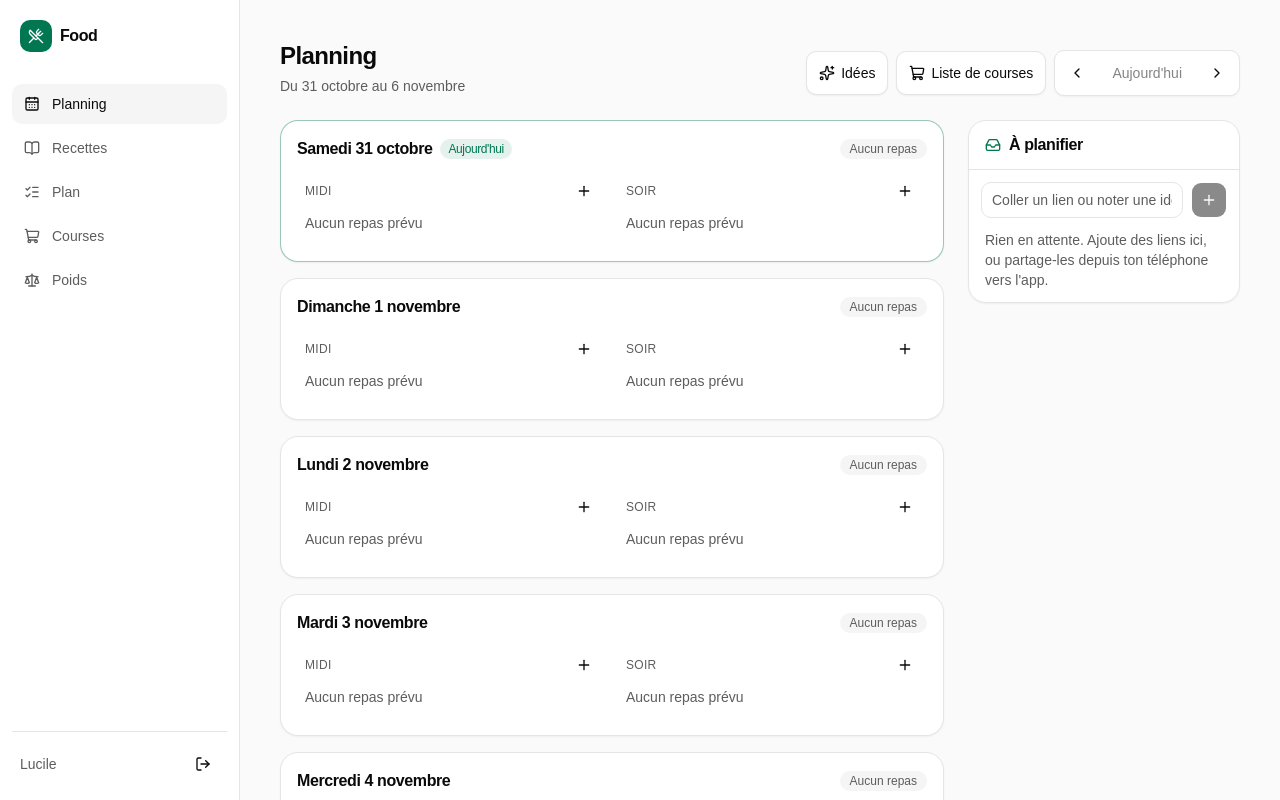
Test: App › affiche la navigation Planning / Recettes et le nom de l’utilisateur
The width and height of the screenshot is (1280, 800).
Expected: the heading "Planning" is shown, [280,42,376,69]
Expected: the text "Lucile" is shown, [20,754,57,774]
What coordinates should you click on to do the following:
click the link "Recettes"
I would click on:
 (66, 148)
Its box is [24,140,107,156].
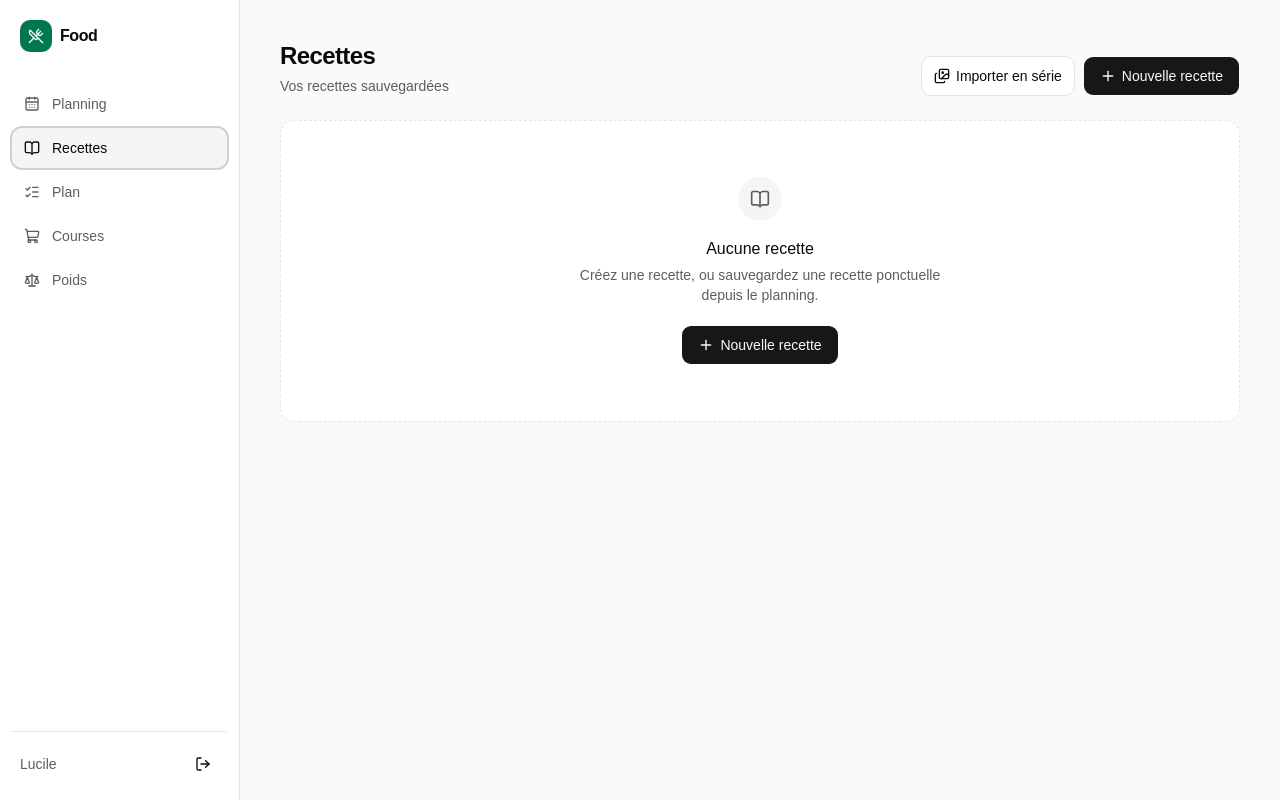
Expected: the heading "Recettes" is shown, [280,42,375,69]
